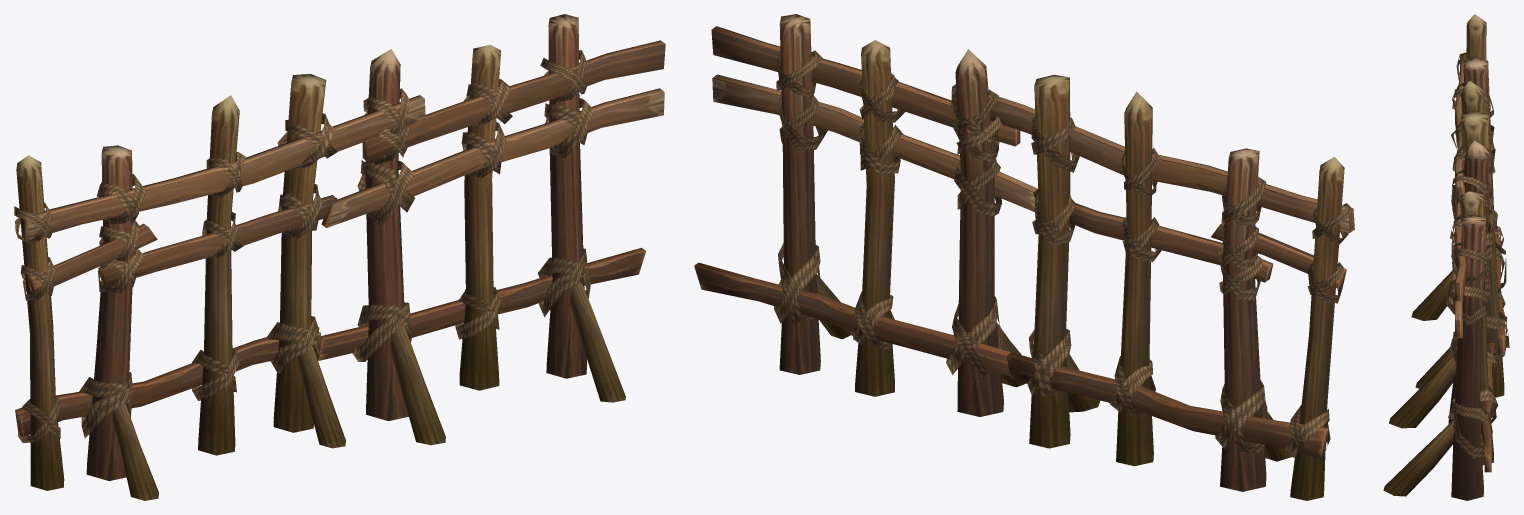
The model's file is q01a_well_01.FBX.
The picture shows the model from 3 angles, left to right: view 1: azimuth 30°, elevation 25°; view 2: azimuth 150°, elevation 25°; view 3: azimuth 270°, elevation 25°; orthographic projection. The views are drawn at different scales.
Parts seen in each view (by area): view 1: q01a_well_01; view 2: q01a_well_01; view 3: q01a_well_01.
Boxes of the visible parts, x1,y1,x2,y2 form: q01a_well_01: (14,14,665,500); q01a_well_01: (694,14,1354,500); q01a_well_01: (1383,14,1509,500).
Bounding box in the file's own units: 106 × 57.54 × 22.91.
